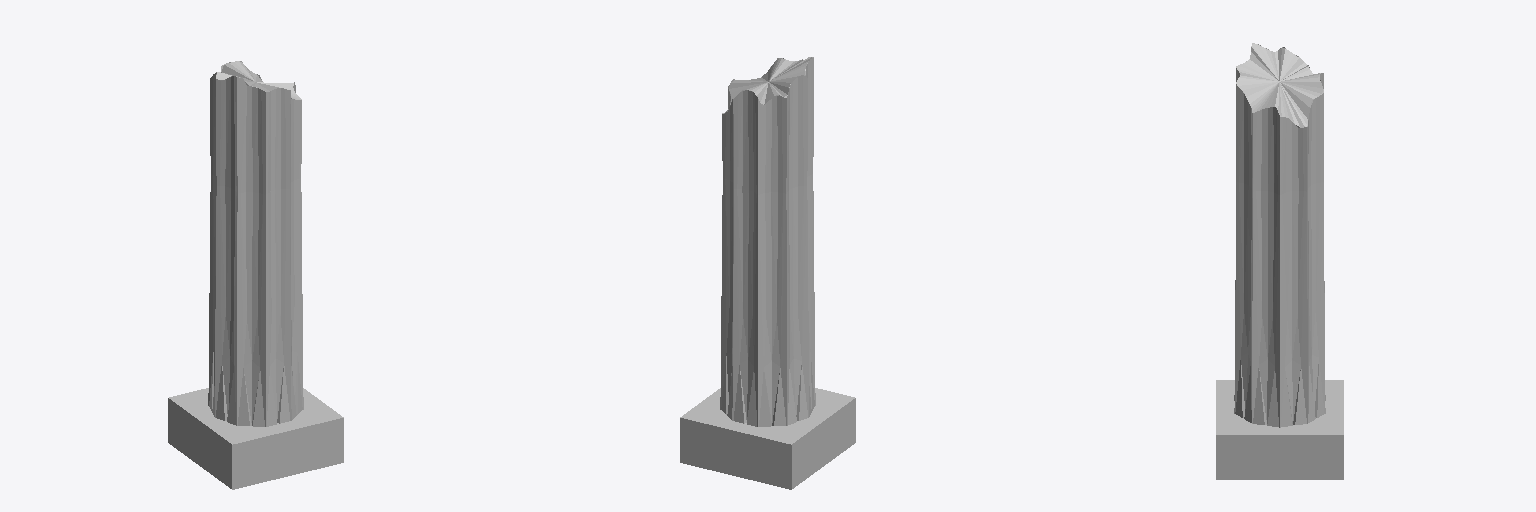
File: brokenPillar.obj
The picture shows the model from 3 angles: view 1: azimuth 30°, elevation 25°; view 2: azimuth 150°, elevation 25°; view 3: azimuth 270°, elevation 25°; orthographic projection.
Parts seen in each view (by area): view 1: polySurface1; view 2: polySurface1; view 3: polySurface1.
Part boxes in pixels (x1,y1,x2,y2): polySurface1: (168,61,343,489); polySurface1: (680,57,855,489); polySurface1: (1216,43,1343,479).
Bounding box in the file's own units: 4.21 × 14.19 × 4.21.